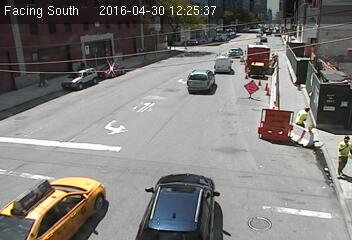neg: (20, 142, 78, 218), (172, 125, 226, 198), (285, 58, 313, 95), (278, 181, 304, 216), (267, 36, 289, 66), (117, 55, 138, 83), (132, 14, 148, 36), (192, 67, 207, 86), (218, 17, 231, 34), (244, 12, 252, 23), (280, 16, 287, 24)
